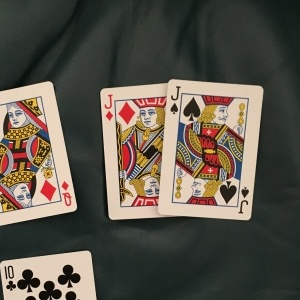card: (161, 78, 264, 222), (99, 83, 168, 223)
